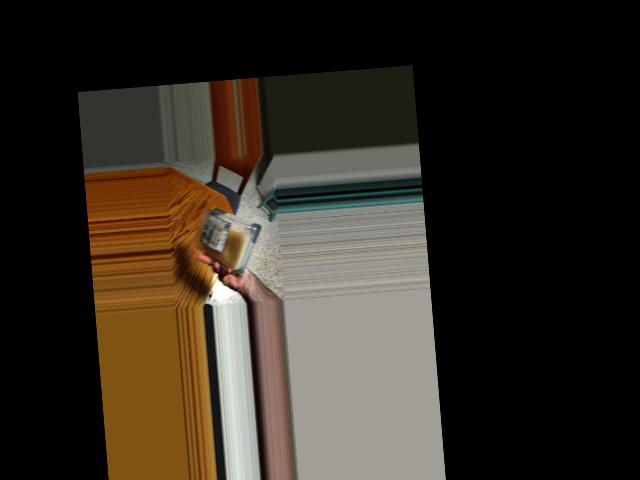cheese: (199, 199, 260, 275)
